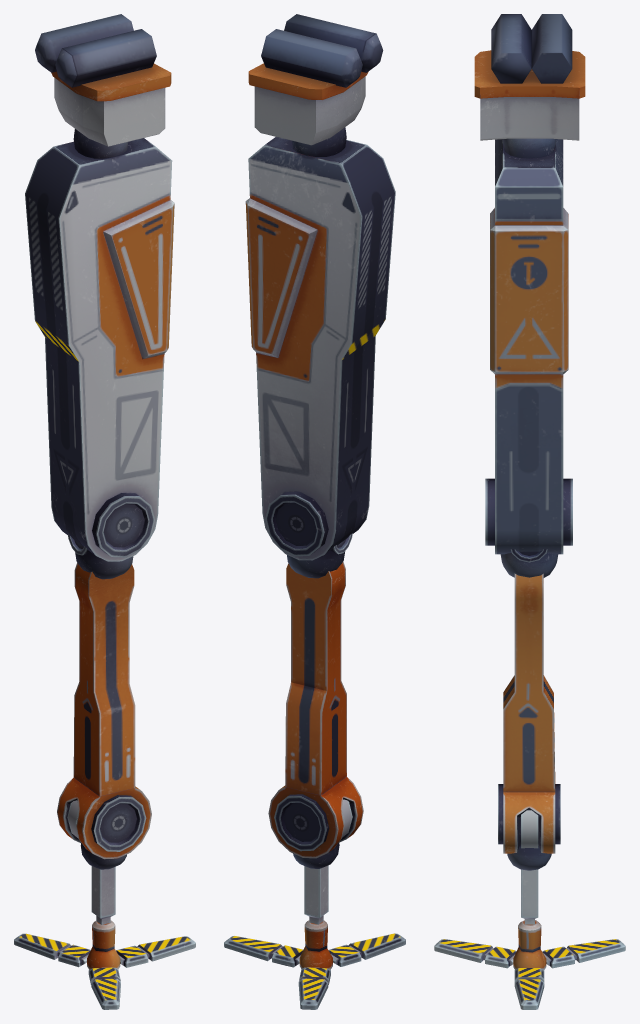
The model's file is Brazo_robot_editado 1.fbx.
The picture shows the model from 3 angles, left to right: view 1: azimuth 30°, elevation 25°; view 2: azimuth 150°, elevation 25°; view 3: azimuth 270°, elevation 25°; orthographic projection.
Visible parts, largest first — view 1: B1.001, B2.001, Cube.003, B3.001, B4.001, DEDO1.003, DEDO3.003, DEDO2.003, DEDO3.002, DEDO1.002; view 2: B1.001, B2.001, Cube.003, B3.001, B4.001, DEDO1.003, DEDO2.003, DEDO3.003, DEDO2.002, DEDO1.002; view 3: B1.001, B2.001, Cube.003, B4.001, B3.001, DEDO2.003, DEDO3.003, DEDO1.003, DEDO3.002, DEDO2.002.
Boxes of the visible parts, box(x1,y1,x2,y2) form: B1.001: box(25, 129, 174, 579); B2.001: box(57, 563, 151, 869); Cube.003: box(35, 14, 171, 146); B3.001: box(91, 866, 115, 924); B4.001: box(87, 920, 120, 969); DEDO1.003: box(137, 936, 195, 961); DEDO3.003: box(14, 933, 71, 959); DEDO2.003: box(91, 978, 120, 1009); DEDO3.002: box(58, 944, 90, 967); DEDO1.002: box(116, 945, 148, 967); B1.001: box(245, 127, 395, 578); B2.001: box(268, 561, 363, 868); Cube.003: box(248, 14, 383, 145); B3.001: box(304, 865, 328, 924); B4.001: box(299, 920, 332, 969); DEDO1.003: box(224, 936, 282, 961); DEDO2.003: box(348, 933, 405, 959); DEDO3.003: box(298, 978, 328, 1009); DEDO2.002: box(328, 944, 361, 966); DEDO1.002: box(272, 945, 303, 967); B1.001: box(485, 138, 572, 577); B2.001: box(498, 573, 560, 870); Cube.003: box(474, 14, 585, 140); B4.001: box(513, 920, 546, 969); B3.001: box(521, 869, 538, 924); DEDO2.003: box(434, 939, 493, 962); DEDO3.003: box(566, 939, 625, 962); DEDO1.003: box(514, 979, 544, 1009); DEDO3.002: box(542, 946, 574, 968); DEDO2.002: box(485, 946, 516, 968).
Size of the model in its own units: 76.95 by 454 by 84.74.
